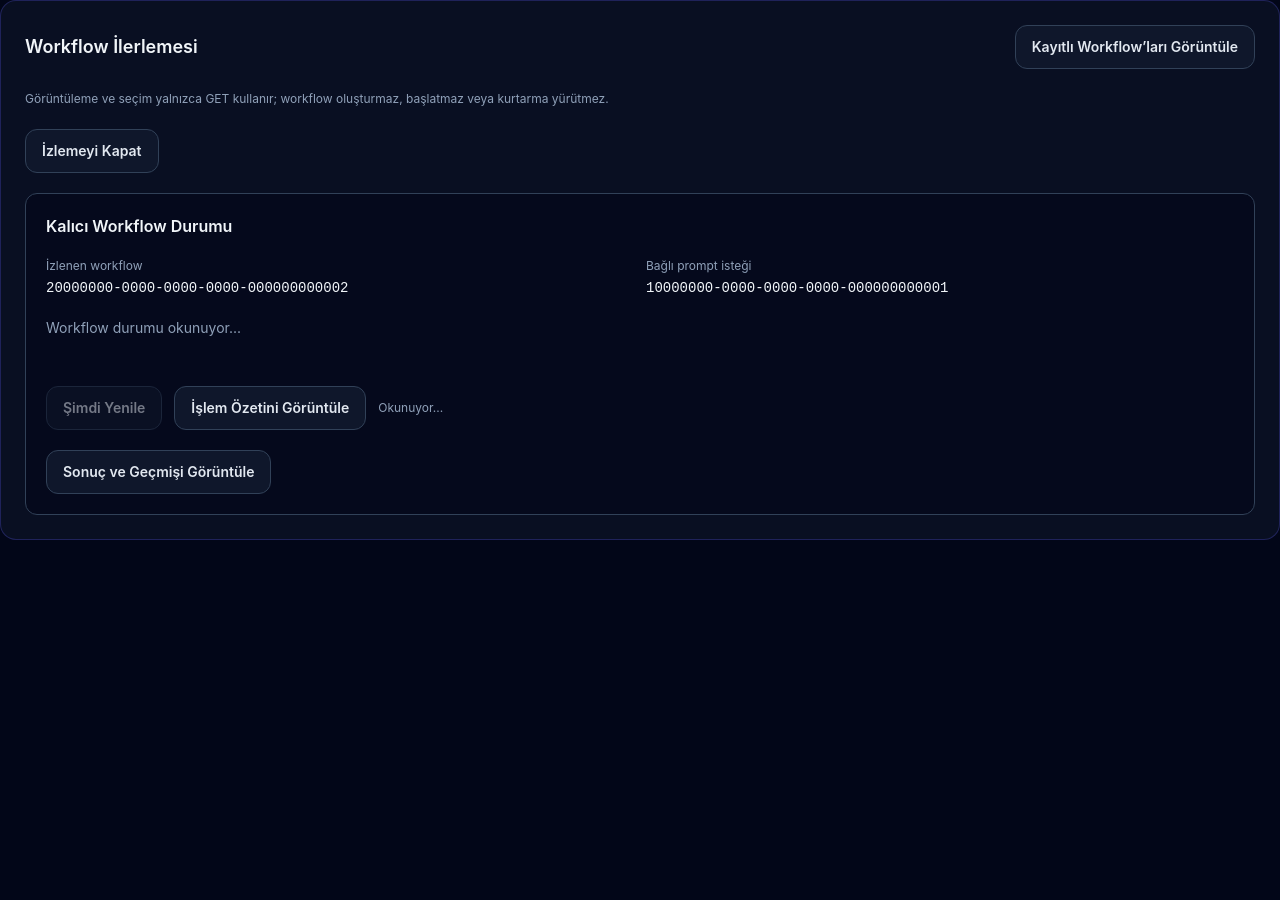
Test: visible persisted workflow monitoring › withholds completion when on-demand history exposes an unresolved terminal operation
This screenshot has width=1280, height=900.
Click the button "İşlem Özetini Görüntüle" at [270, 408], box [174,386,366,430]
Wait 1 ms
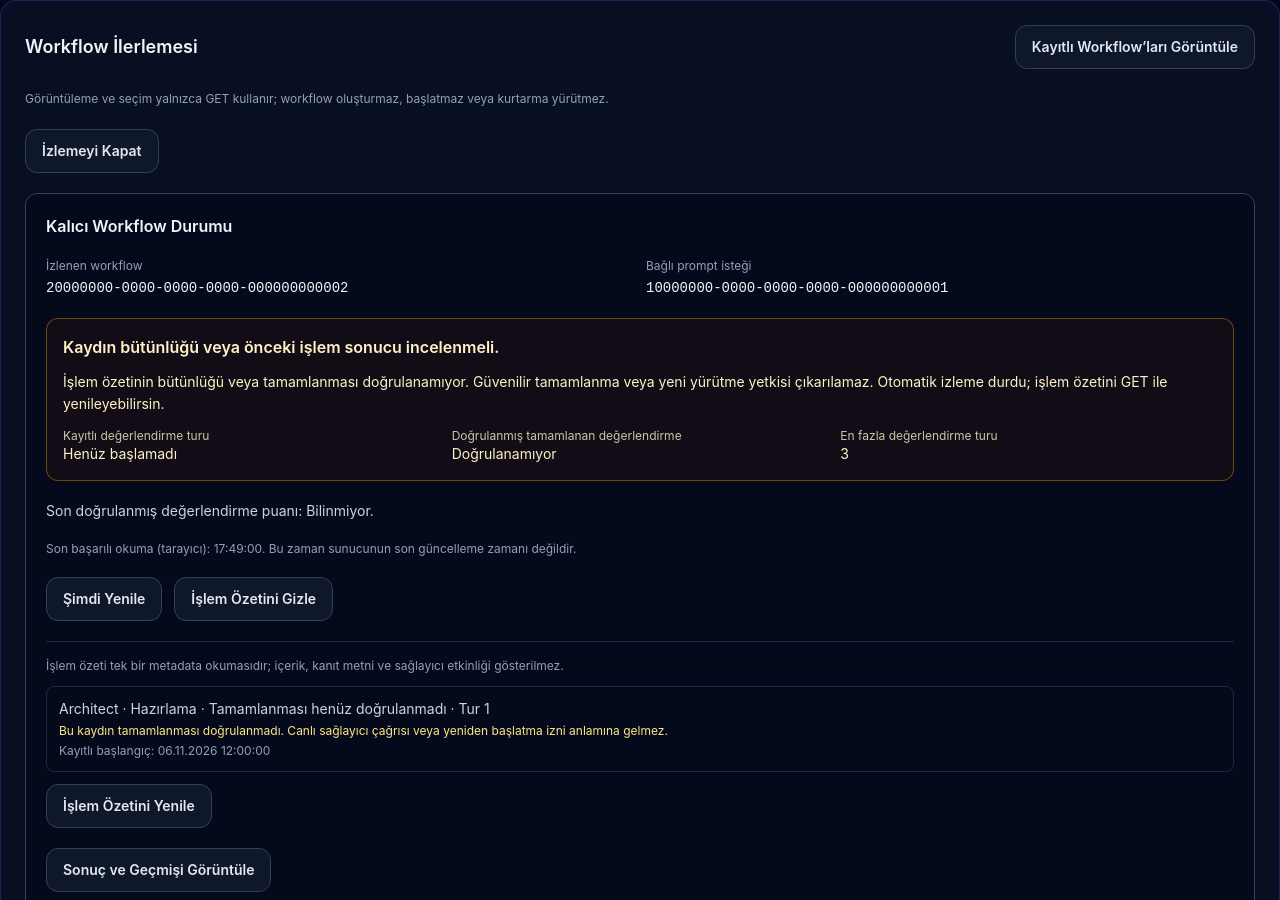
Check: the text "Kaydın bütünlüğü veya önceki işlem sonucu incelenmeli." is shown, box [63,336,499,356]
